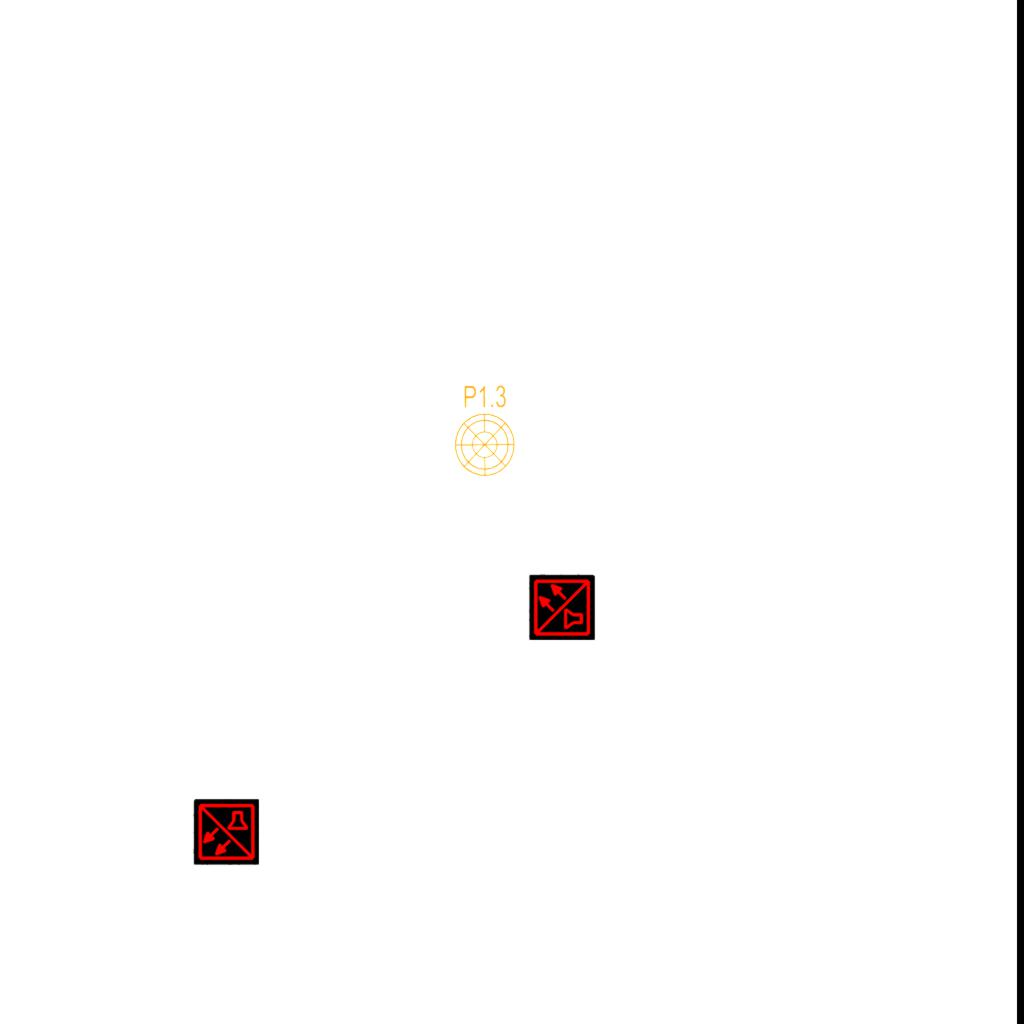Aufbaurundleuchte_LED_Treppenhaus: (453, 376, 522, 478)
OKW_Multisensormelder_(Kombination_optischer_Rauch-Kahlenmonoxid_Waerme-Melder): (193, 799, 259, 865), (529, 574, 595, 640)
